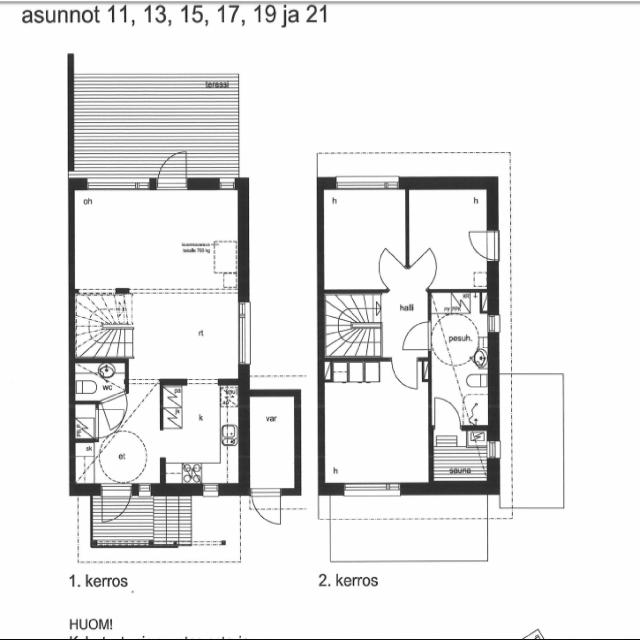door: (370, 252, 408, 292), (408, 250, 446, 290), (100, 390, 134, 430), (102, 483, 131, 528), (158, 146, 186, 190), (464, 232, 499, 259), (435, 397, 461, 430), (392, 357, 417, 389), (95, 410, 124, 437), (403, 322, 432, 349)
